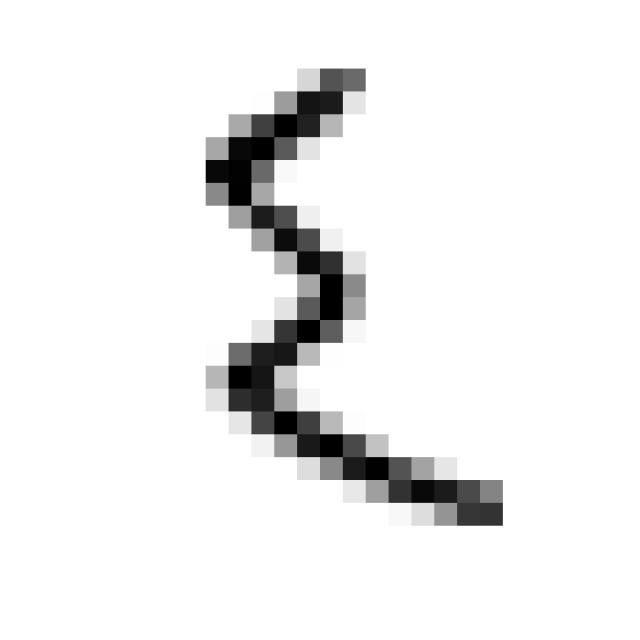4 -four-: (180, 44, 526, 552)
